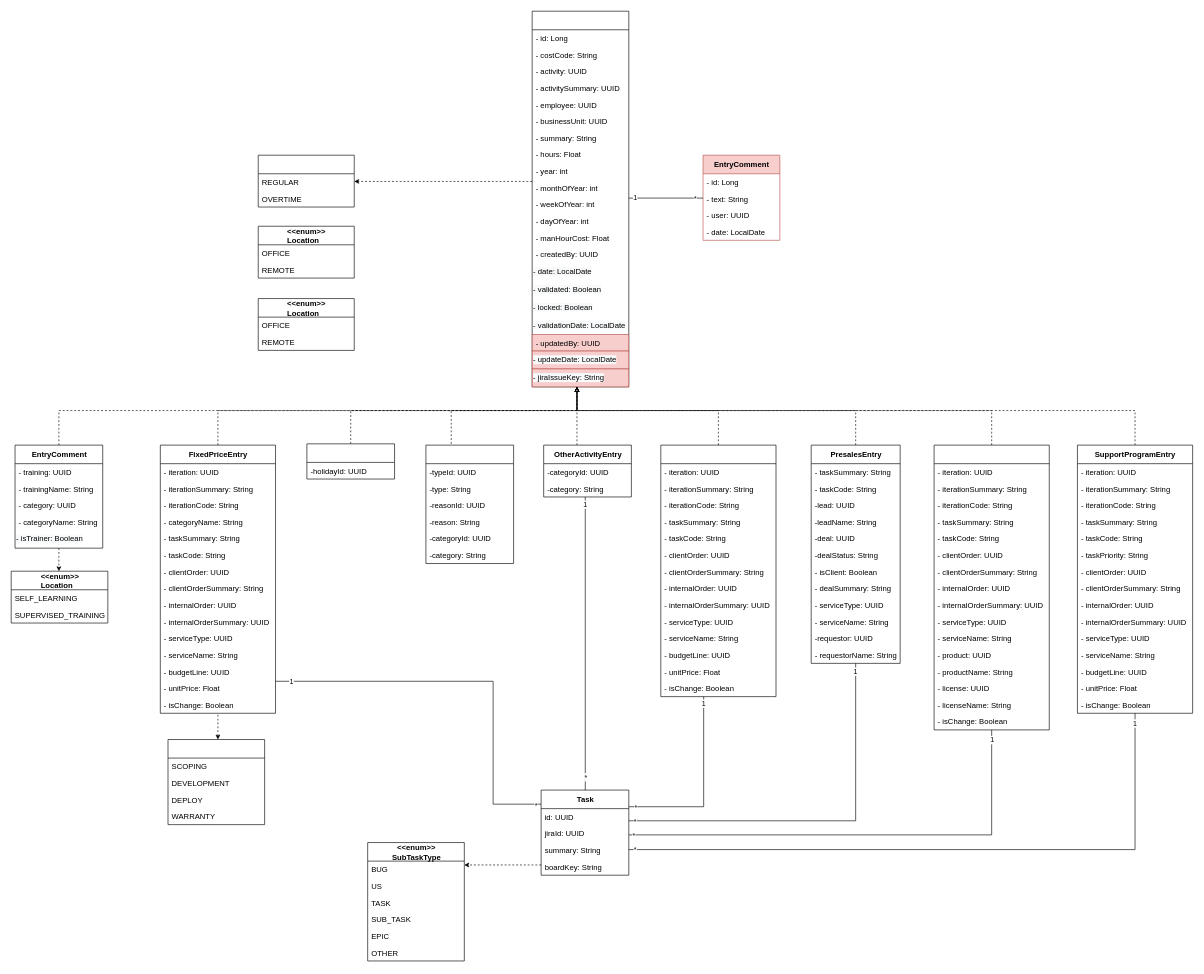
Image size: 1204x974. Some labels were removed from this diagram. The shapes that lost their labels are listed below. From the top down, each one's box as (x1, y1, x2, y2) in pixels, then its label:
(258, 155, 354, 207): <<enum>> TimeType
(532, 11, 629, 387): TimesheetEntry
(306, 443, 395, 479): HolidayEntry
(425, 444, 514, 564): OffEntry
(660, 444, 776, 697): TimeAndMaterialEntry
(933, 444, 1049, 730): LicenseEntry
(167, 739, 265, 825): <<enum>> PhaseType
